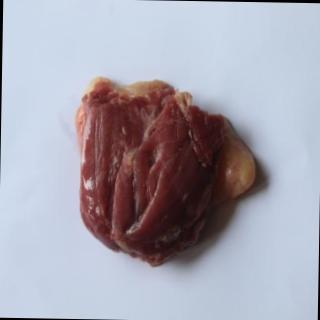Daging Sapi: (76, 77, 258, 270)
